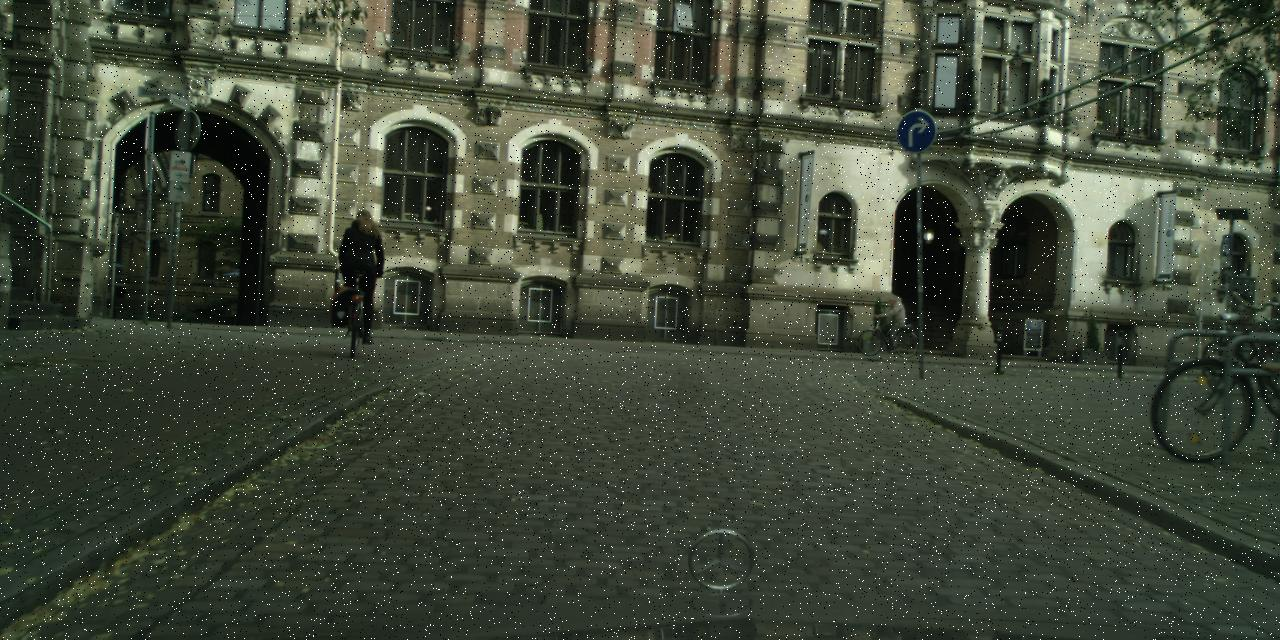ped: (336, 209, 382, 324), (881, 295, 901, 346)
